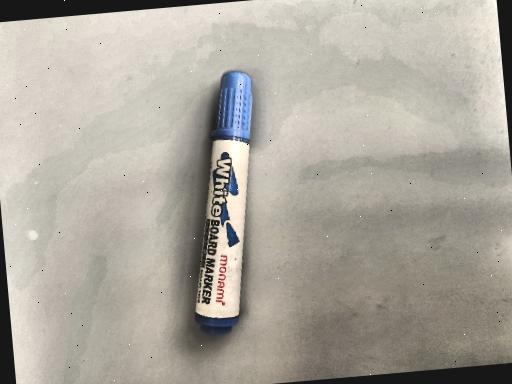marcador azul: (195, 71, 252, 334)
